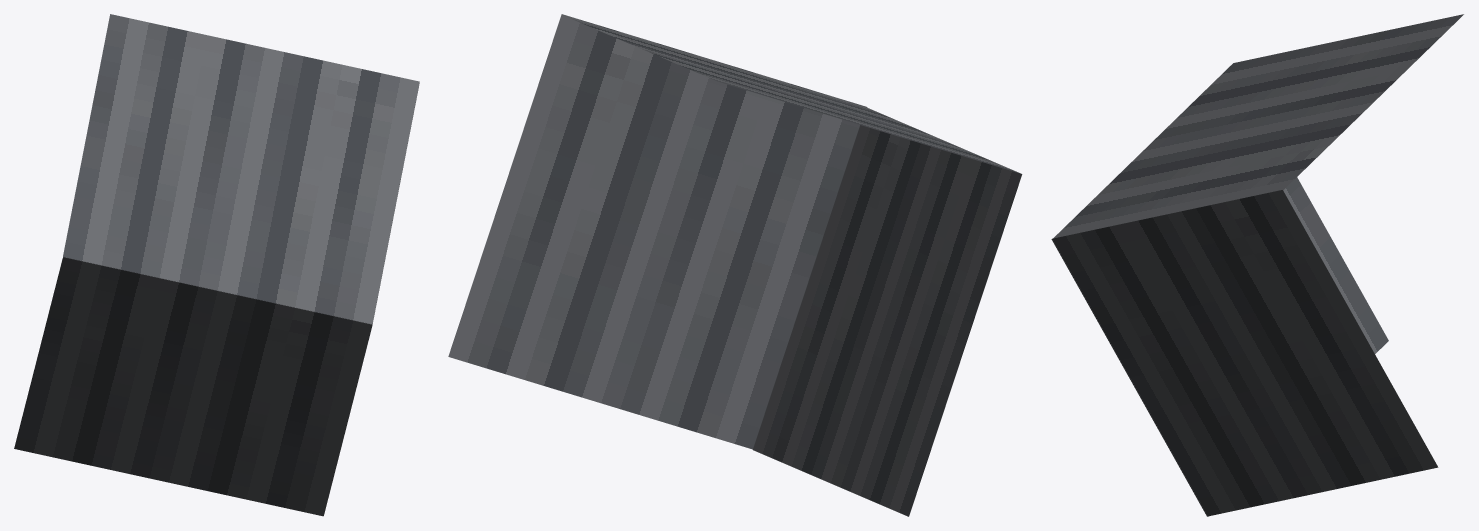
File: SteelBlock.glb
3 views of the same model, side by side, from view 1: azimuth 30°, elevation 25°; view 2: azimuth 150°, elevation 25°; view 3: azimuth 270°, elevation 25° (orthographic). The views are drawn at different scales.
Visible parts, largest first — view 1: mesh_id30, mesh_id42; view 2: mesh_id38, mesh_id42, mesh_id30; view 3: mesh_id38, mesh_id30, mesh_id42.
Boxes of the visible parts, x1,y1,x2,y2 form: mesh_id30: (63,14,419,324); mesh_id42: (14,257,372,516); mesh_id38: (448,14,867,449); mesh_id42: (753,108,1022,516); mesh_id30: (563,15,1020,173); mesh_id38: (1051,190,1438,516); mesh_id30: (1054,14,1463,238); mesh_id42: (1053,66,1388,516).
Size of the model in its own units: 0.0958 by 0.0981 by 0.0805.
3 materials, 3 textured.
